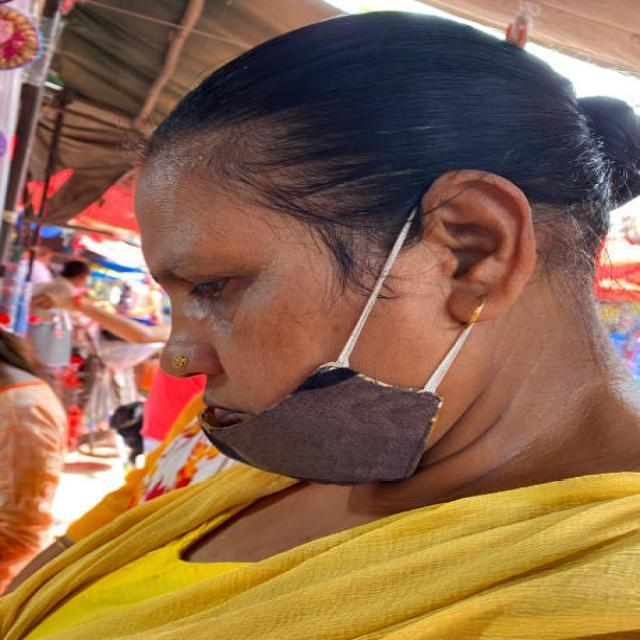hairnet: (152, 299, 483, 485)
